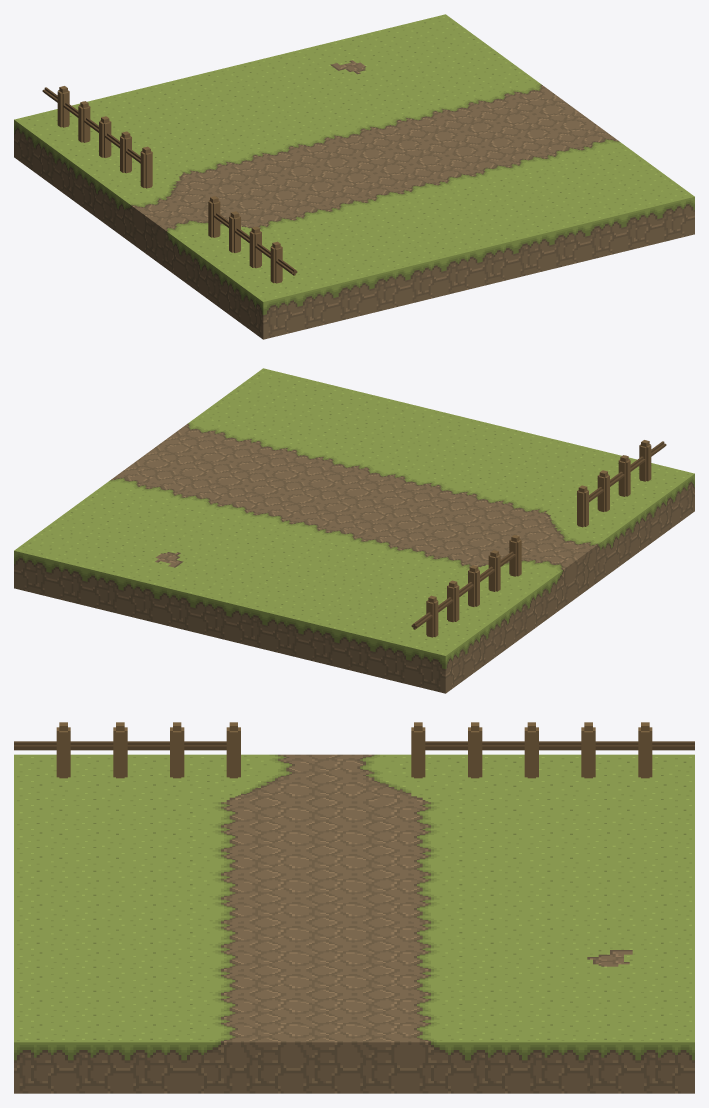
File: mudmiMap10.vox.obj
3 renders of one model, top to bottom at view 1: azimuth 30°, elevation 25°; view 2: azimuth 150°, elevation 25°; view 3: azimuth 270°, elevation 25°, orthographic. The views are drawn at different scales.
Size of the model in its own units: 24 by 4 by 24.
1 material, 1 textured.
